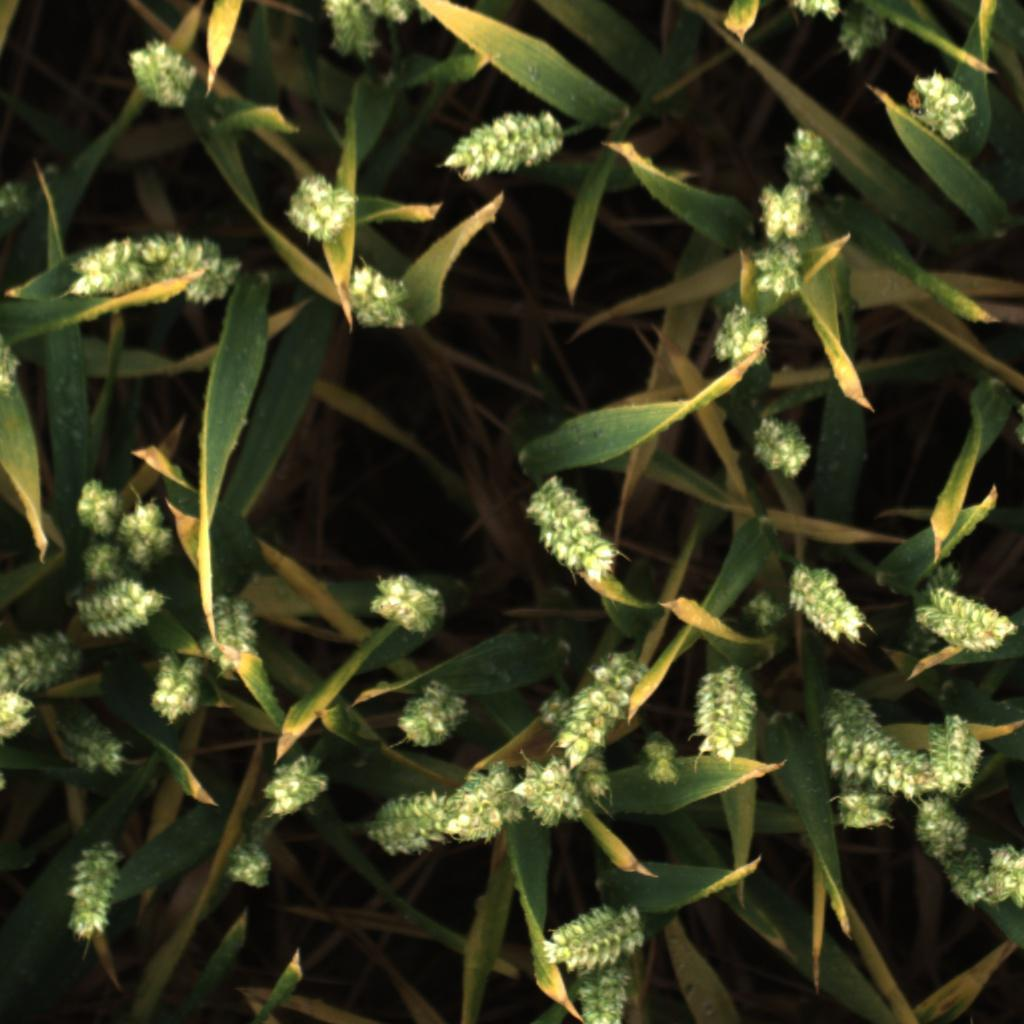0-0: (552, 647, 651, 762), (524, 472, 621, 588), (440, 100, 564, 187), (914, 562, 1018, 662), (535, 685, 617, 806), (828, 691, 923, 791), (141, 230, 245, 306), (789, 560, 874, 652), (62, 835, 131, 946), (543, 904, 652, 974), (276, 167, 364, 250), (690, 660, 761, 762), (48, 698, 133, 783), (122, 30, 202, 117), (369, 784, 456, 864), (446, 754, 522, 845), (362, 565, 447, 644), (392, 677, 476, 755), (71, 572, 168, 639), (512, 750, 583, 836), (196, 593, 266, 679), (899, 69, 981, 142), (0, 628, 90, 693), (340, 261, 415, 337), (922, 712, 993, 792), (139, 645, 209, 725), (744, 412, 821, 484), (60, 237, 145, 302), (261, 746, 333, 820), (703, 305, 778, 373), (114, 498, 182, 572), (310, 0, 387, 65), (774, 125, 843, 197), (908, 794, 975, 865), (744, 238, 815, 303), (824, 6, 900, 65), (750, 179, 820, 243), (729, 580, 794, 648), (939, 843, 999, 912), (219, 837, 281, 896), (828, 786, 899, 835), (68, 471, 122, 535), (577, 965, 635, 1024), (638, 729, 684, 795), (0, 681, 38, 749), (68, 543, 122, 583), (993, 841, 1024, 907), (377, 0, 446, 28), (0, 319, 20, 396)
